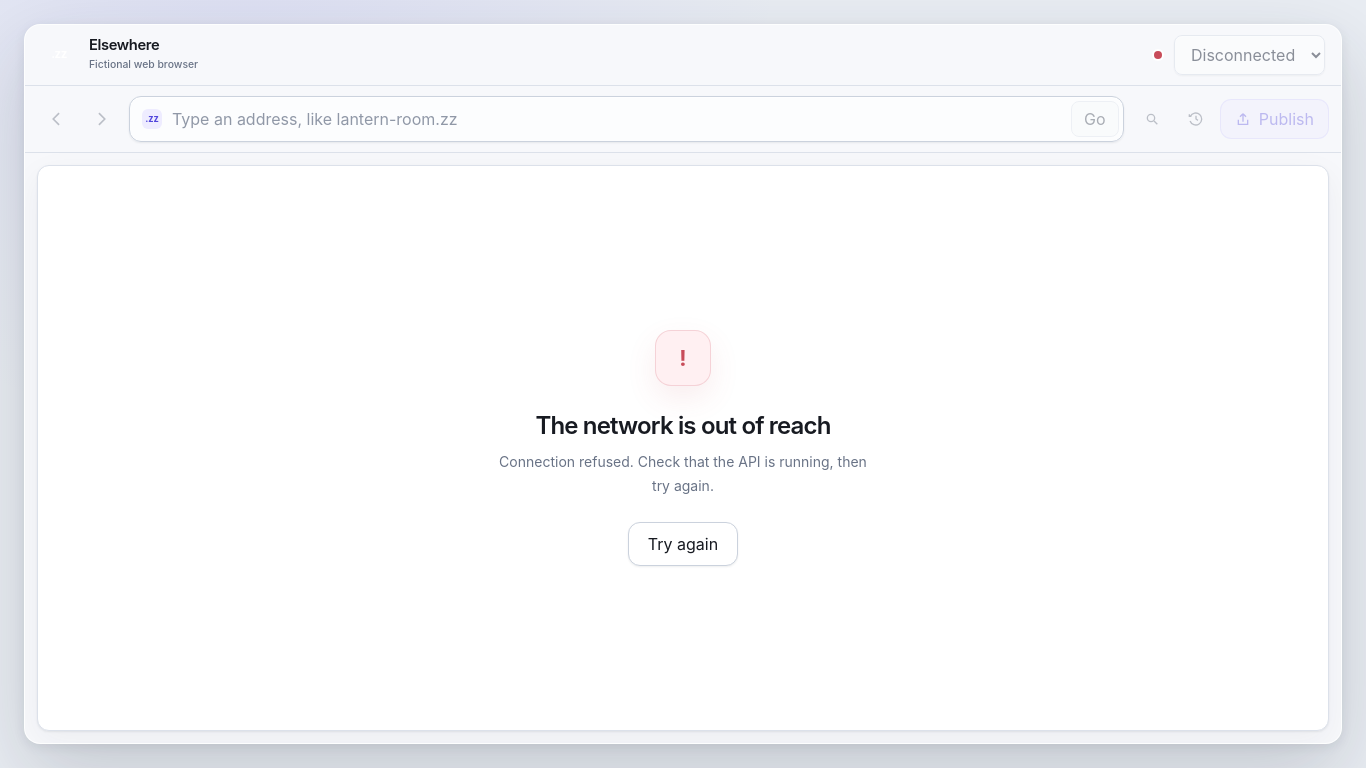
Scenario: BrowserShell › shows an actionable error and can retry
Check: the heading "The network is out of reach" is shown, box [535, 411, 830, 440]
Click the button "Try again" at (683, 544), box [628, 522, 738, 566]
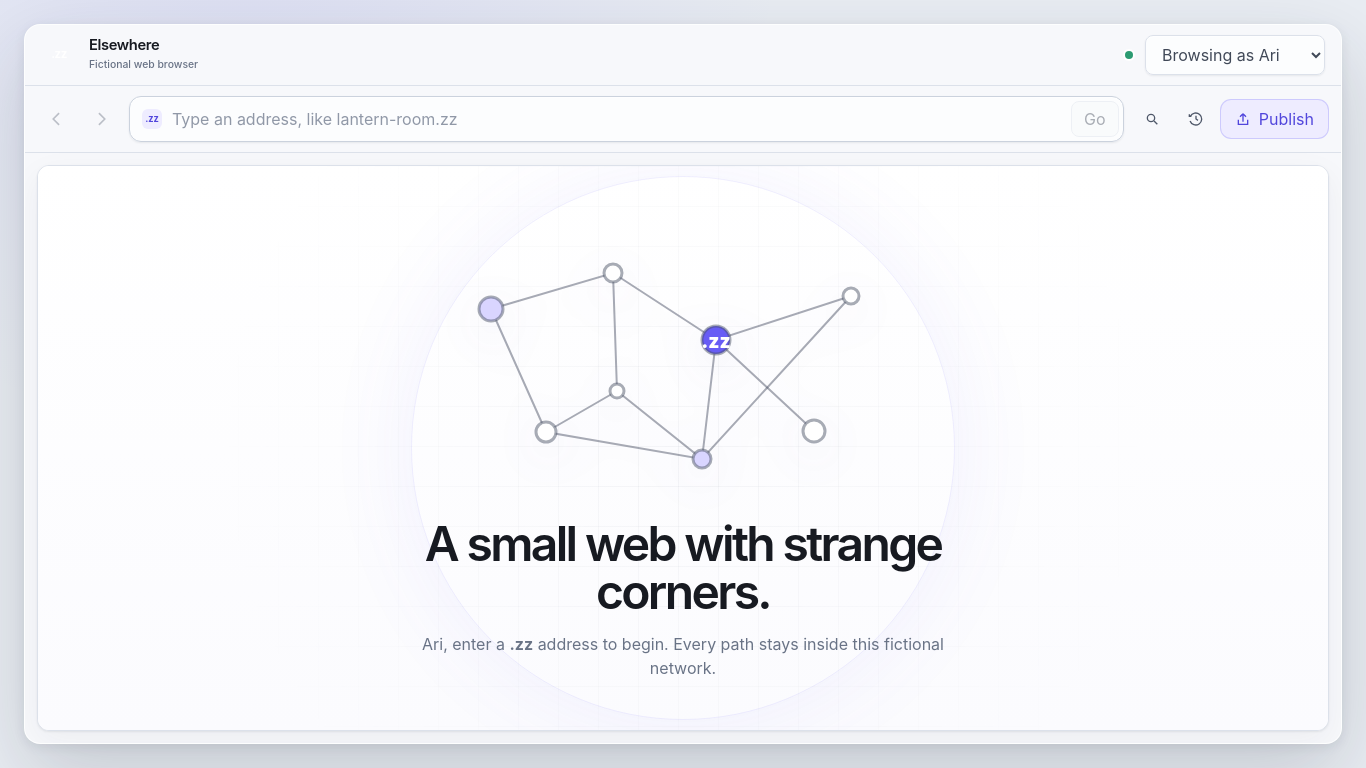
Check: the heading "A small web with strange corners." is shown, box [425, 514, 941, 621]
